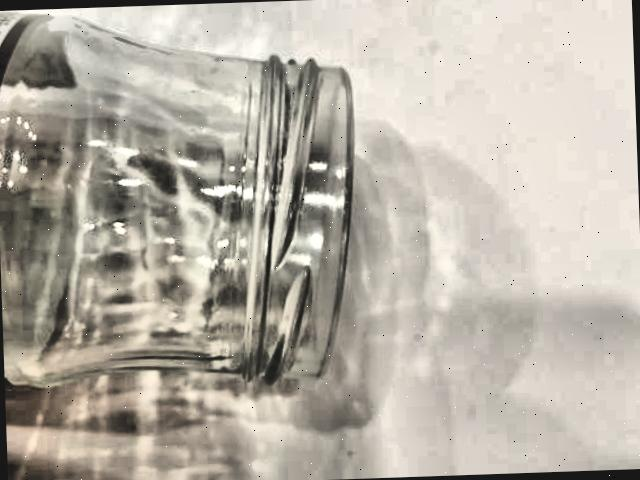Almennt: (0, 2, 378, 420)
